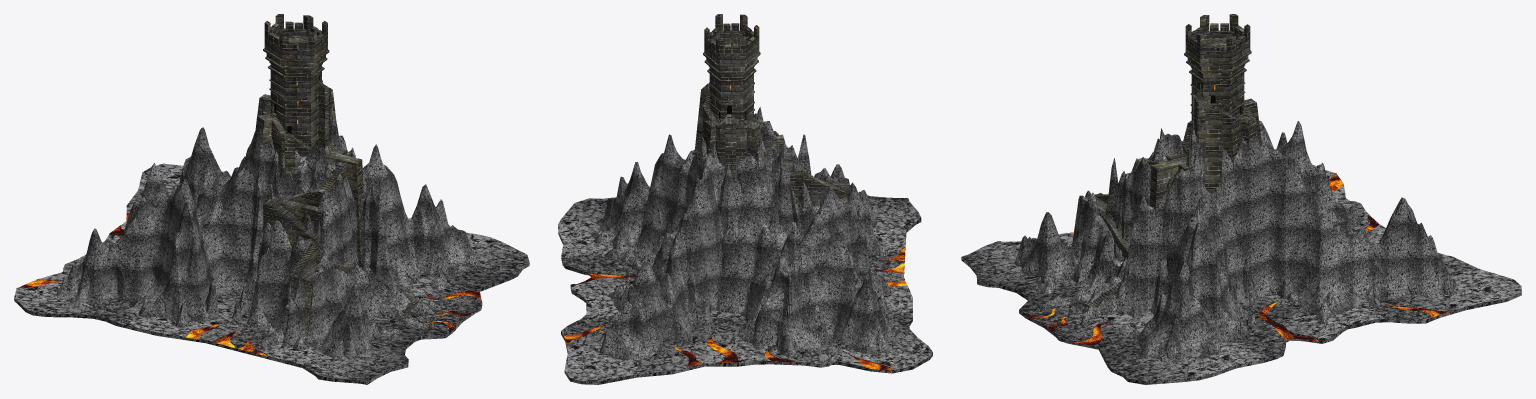
The model's file is throne.glb.
The picture shows the model from 3 angles, left to right: view 1: azimuth 30°, elevation 25°; view 2: azimuth 150°, elevation 25°; view 3: azimuth 270°, elevation 25°; orthographic projection. The views are drawn at different scales.
Visible parts, largest first — view 1: hill, plate, tower, lava; view 2: hill, plate, tower, lava; view 3: hill, plate, tower, lava.
Part boxes in pixels (bbox=[...]): hill: bbox=[56, 114, 482, 359]; plate: bbox=[14, 163, 529, 384]; tower: bbox=[253, 14, 418, 336]; lava: bbox=[18, 213, 481, 356]; hill: bbox=[590, 107, 899, 360]; plate: bbox=[558, 195, 932, 384]; tower: bbox=[693, 14, 853, 209]; lava: bbox=[563, 247, 906, 370]; hill: bbox=[1013, 120, 1456, 364]; plate: bbox=[961, 170, 1521, 384]; tower: bbox=[1069, 14, 1261, 307]; lava: bbox=[1023, 174, 1451, 345].
Size of the model in its own units: 157 by 93.31 by 172.
Materials: 6 (5 with a texture image).
